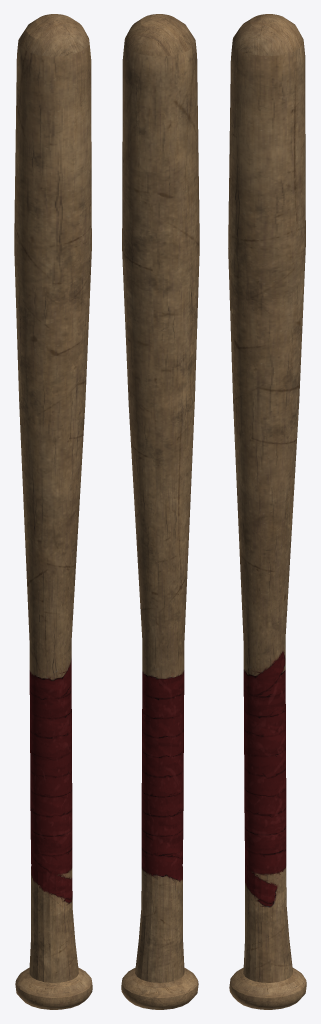
The model's file is baseball_bat.fbx.
3 renders of one model, left to right at view 1: azimuth 30°, elevation 25°; view 2: azimuth 150°, elevation 25°; view 3: azimuth 330°, elevation 25°, orthographic.
Parts seen in each view (by area): view 1: Baseball_bat; view 2: Baseball_bat; view 3: Baseball_bat.
Part boxes in pixels (x1,y1,x2,y2): Baseball_bat: (14,14,92,1009); Baseball_bat: (121,14,199,1009); Baseball_bat: (228,14,306,1009).
Size of the model in its own units: 11.76 by 161 by 11.6.
Materials: 1 (1 with a texture image).
